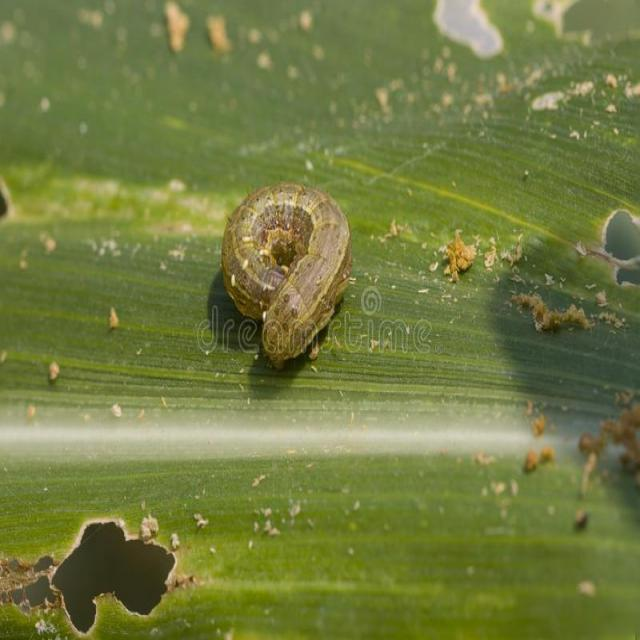Plaga: (216, 178, 357, 390)
